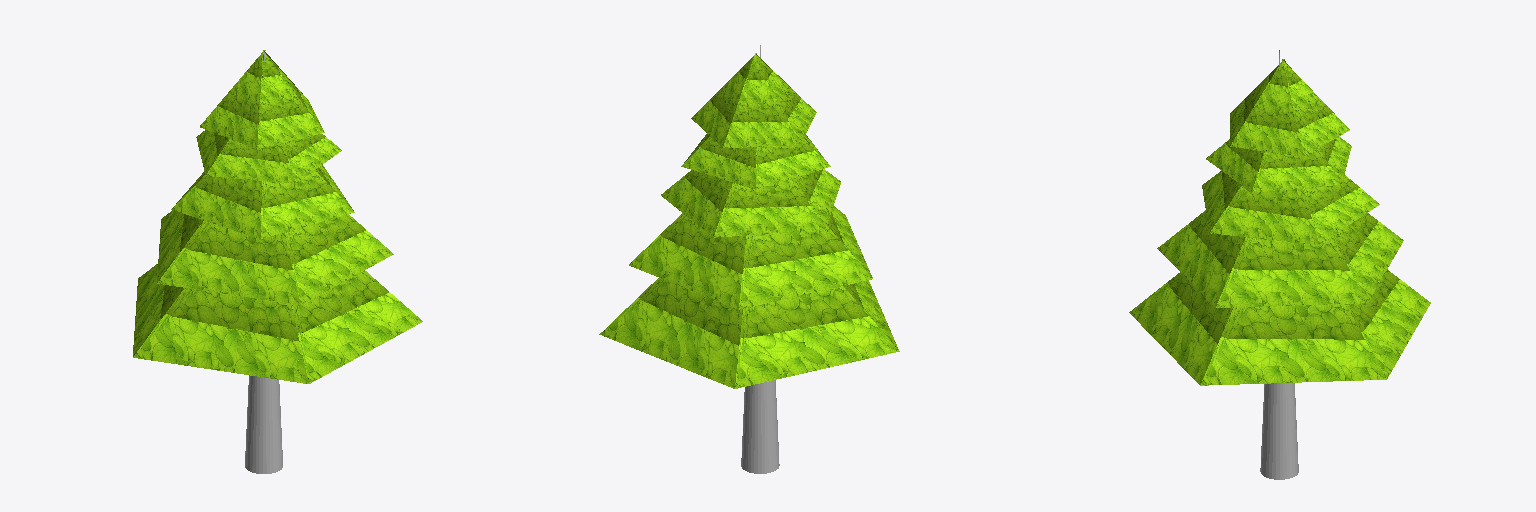
3 views of the same model, side by side, from view 1: azimuth 30°, elevation 25°; view 2: azimuth 150°, elevation 25°; view 3: azimuth 270°, elevation 25° (orthographic).
Parts seen in each view (by area): view 1: Cone.001, Cone; view 2: Cone.001, Cone; view 3: Cone.001, Cone.
Boxes of the visible parts, <box> form: Cone.001: <box>133,50,422,383</box>; Cone: <box>245,52,282,473</box>; Cone.001: <box>599,53,899,388</box>; Cone: <box>741,45,779,473</box>; Cone.001: <box>1129,59,1430,385</box>; Cone: <box>1260,50,1298,479</box>.
Size of the model in its own units: 15.3 by 24.29 by 15.7.
2 materials, 1 textured.